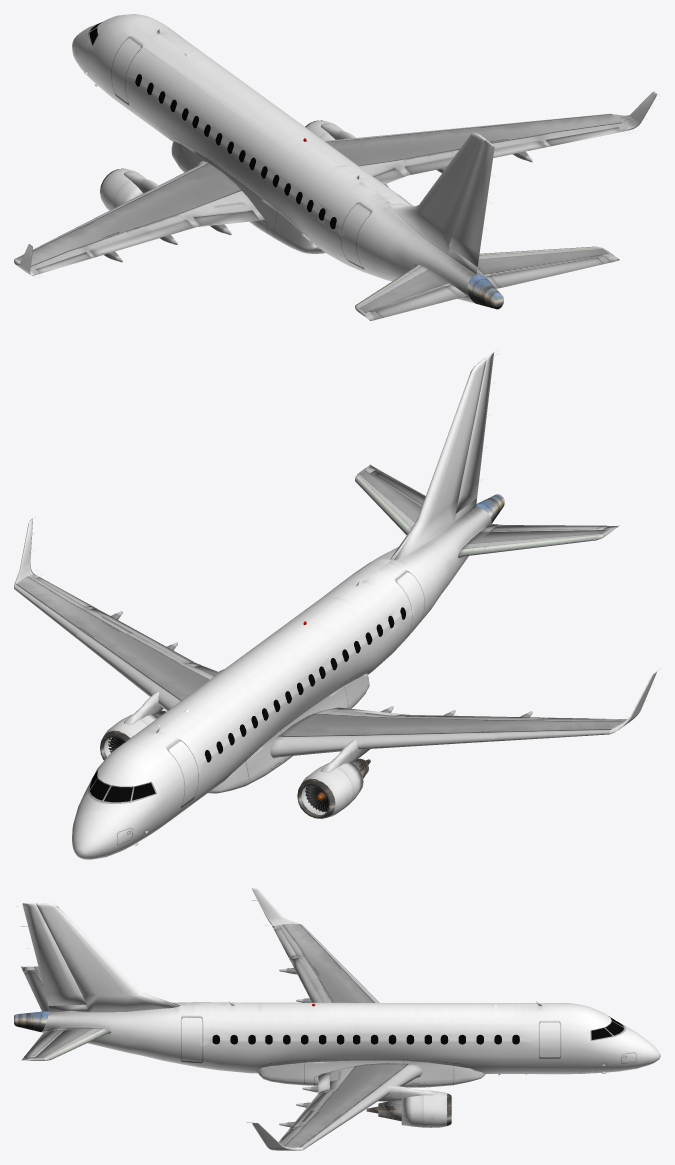
The picture shows the model from 3 angles, top to bottom: view 1: azimuth 30°, elevation 25°; view 2: azimuth 150°, elevation 25°; view 3: azimuth 270°, elevation 25°; orthographic projection. The views are drawn at different scales.
Parts seen in each view (by area): view 1: fuselage, vstab, hstab, wing_006, wing_003, wing_002, rudder, fuselage_001, wing_009, wing_008, wing_005, elevator_r (+11 smaller); view 2: fuselage, vstab, hstab, wing_003, wing_006, wing_002, fuselage_001, wing_009, wing_008, rudder, nacelle_001, wing_005 (+5 smaller); view 3: fuselage, vstab, fuselage_001, rudder, wing_005, wing_002, wing_003, hstab, wing_008, cylinder_003, wing_009, door_r2 (+11 smaller).
Part boxes in pixels (x1,y1,x2,y2): fuselage: [72, 14, 485, 303]; vstab: [391, 133, 485, 274]; hstab: [355, 246, 619, 320]; wing_006: [152, 161, 264, 227]; wing_003: [365, 124, 521, 175]; wing_002: [78, 189, 195, 246]; rudder: [449, 139, 498, 266]; fuselage_001: [171, 141, 325, 253]; wing_009: [498, 113, 628, 147]; wing_008: [15, 227, 102, 275]; wing_005: [324, 137, 407, 177]; elevator_r: [490, 255, 609, 288]; fuselage: [72, 506, 491, 859]; vstab: [390, 358, 486, 560]; hstab: [355, 464, 619, 557]; wing_003: [76, 616, 195, 696]; wing_006: [270, 707, 407, 758]; wing_002: [362, 714, 521, 749]; fuselage_001: [208, 673, 369, 793]; wing_009: [14, 574, 102, 638]; wing_008: [496, 717, 626, 741]; rudder: [455, 350, 497, 513]; nacelle_001: [297, 765, 353, 818]; wing_005: [150, 663, 215, 710]; fuselage: [41, 1001, 660, 1075]; vstab: [36, 903, 180, 1012]; fuselage_001: [257, 1060, 485, 1087]; rudder: [16, 903, 86, 1005]; wing_005: [318, 1063, 422, 1094]; wing_002: [302, 962, 379, 1002]; wing_003: [302, 1086, 388, 1124]; hstab: [21, 966, 111, 1060]; wing_008: [272, 923, 340, 964]; cylinder_003: [212, 1034, 519, 1044]; wing_009: [282, 1119, 342, 1149]; door_r2: [182, 1015, 203, 1061].
Size of the model in its own units: 25.56 by 9.46 by 29.8.
9 materials, 5 textured.
